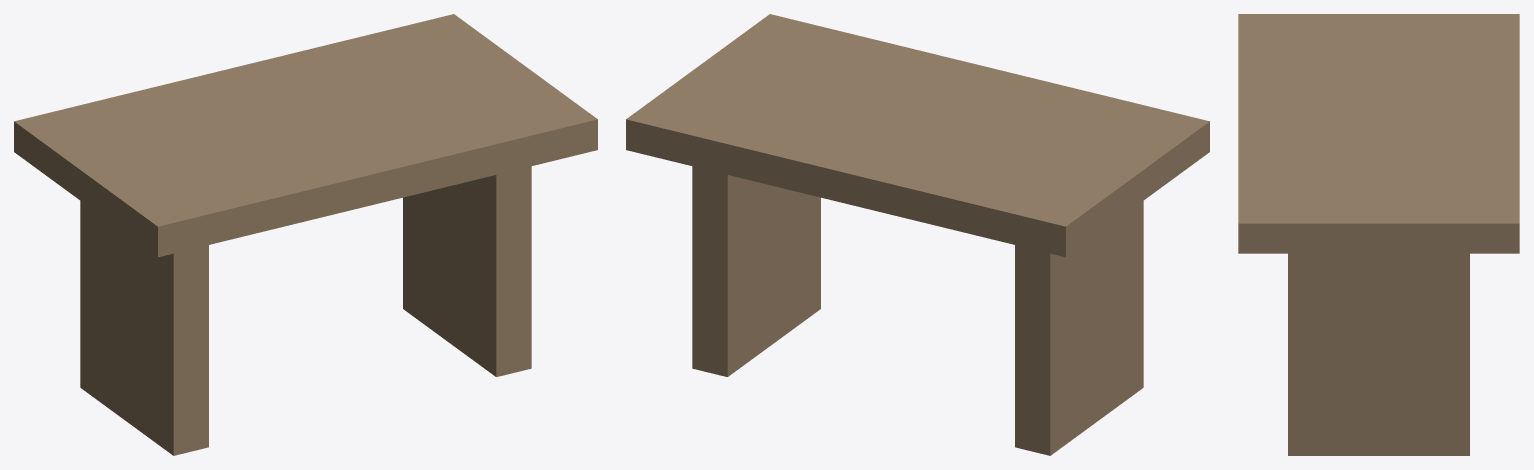
3 renders of one model, left to right at view 1: azimuth 30°, elevation 25°; view 2: azimuth 150°, elevation 25°; view 3: azimuth 270°, elevation 25°, orthographic. The views are drawn at different scales.
Size of the model in its own units: 1.5 by 0.84 by 0.85.
